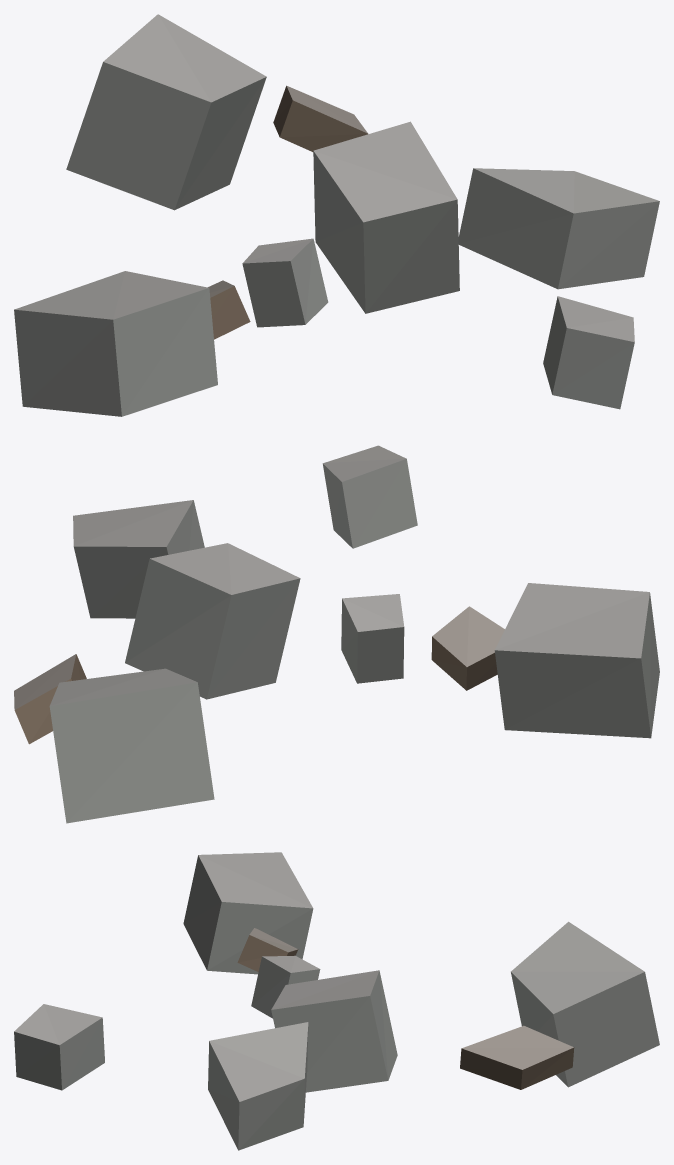
Rendered from rock.rubble__outcrop__spring.glb.
The picture shows the model from 3 angles, top to bottom: view 1: azimuth 30°, elevation 25°; view 2: azimuth 150°, elevation 25°; view 3: azimuth 270°, elevation 25°; orthographic projection. The views are drawn at different scales.
Parts seen in each view (by area): view 1: rock.rubble; view 2: rock.rubble; view 3: rock.rubble.
Boxes of the visible parts, x1=… form: rock.rubble: x1=14, y1=14, x2=659, y2=416; rock.rubble: x1=14, y1=445, x2=659, y2=823; rock.rubble: x1=14, y1=852, x2=659, y2=1150.
Size of the model in its own units: 2.41 by 0.5703 by 2.82.
